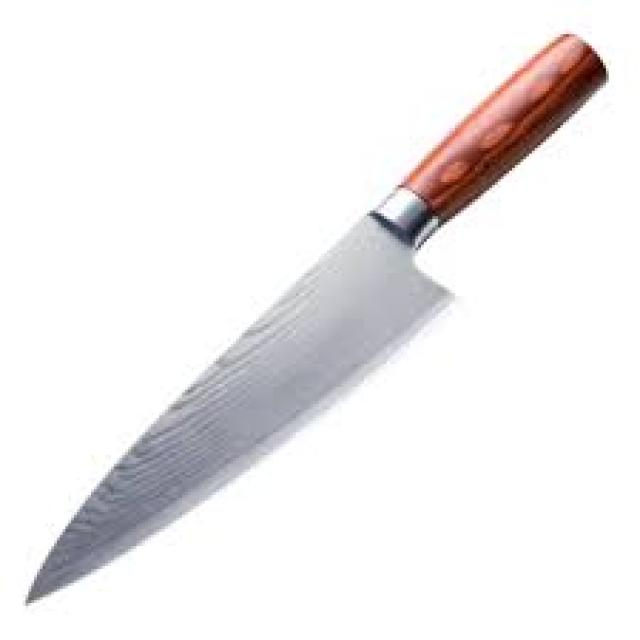Knife: (26, 31, 606, 606)
